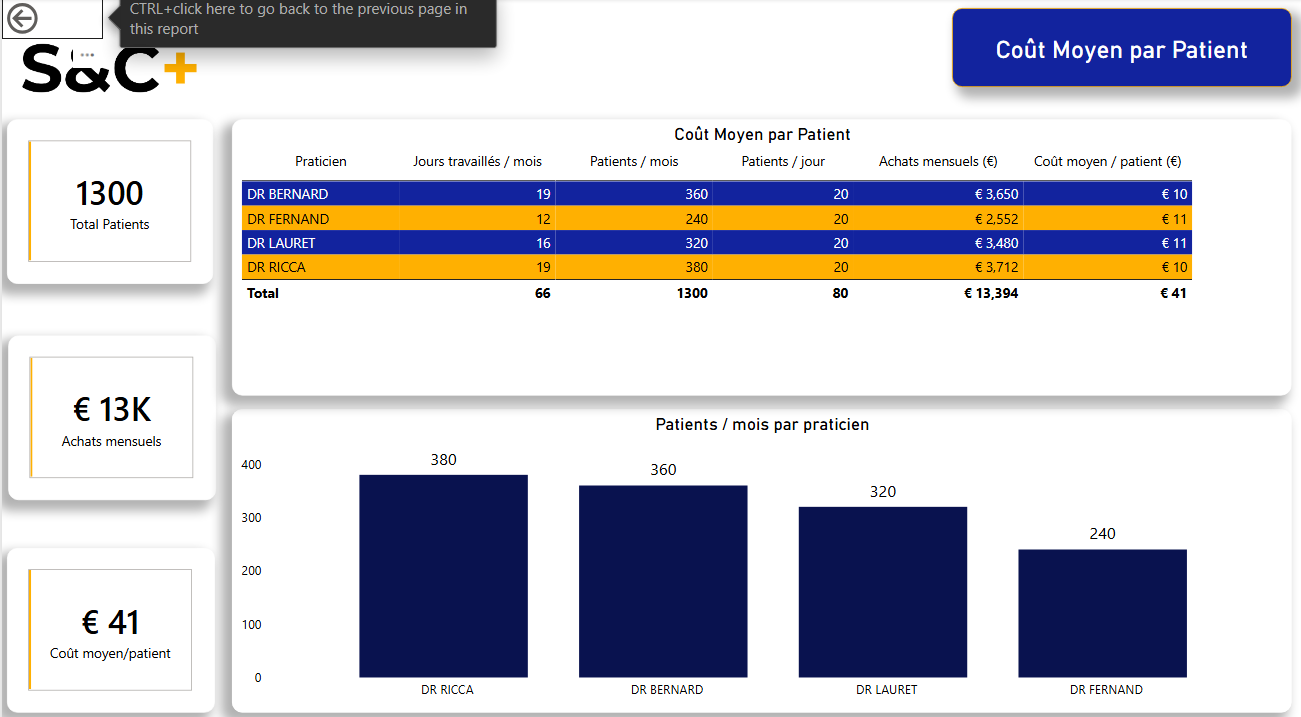

This screenshot's page, from the dashboard's own definition file:
{"tool":"powerbi","page":{"name":"Coût Moyen par Patient","canvas":[1280,720],"ordinal":2},"visuals":[{"type":"cardVisual","fields":{"Data":["Sum(Cout Moyen.Patients / mois)"]},"box":[5,118.8,202.5,161.2],"z":0},{"type":"cardVisual","fields":{"Data":["Sum(Cout Moyen.Achats mensuels (€))"]},"box":[6.2,331.2,203.8,161.2],"z":1000},{"type":"image","box":[0,20,212.5,98.8],"z":3000},{"type":"columnChart","title":"Patients / mois par praticien","fields":{"Category":["Cout Moyen.Praticien"],"Y":["Sum(Cout Moyen.Patients / mois)"]},"box":[226.2,403.8,1040,297.5],"z":4000},{"type":"cardVisual","fields":{"Data":["Sum(Cout Moyen.Coût moyen / patient (€))"]},"box":[5,540,203.8,161.2],"z":6000},{"type":"tableEx","title":"Coût Moyen par Patient","fields":{"Values":["Cout Moyen.Praticien","Sum(Cout Moyen.Jours travaillés / mois)","Sum(Cout Moyen.Patients / mois)","Sum(Cout Moyen.Patients / jour)","Sum(Cout Moyen.Achats mensuels (€))","Sum(Cout Moyen.Coût moyen / patient (€))"]},"box":[226.2,118.8,1040,271.2],"z":7000},{"type":"actionButton","box":[0,0,100,40],"z":10001},{"type":"textbox","box":[932.5,10,333.8,77.5],"z":10002}]}

Visuals, with their boxes on the page's 1280x720 design canvas (x1, y1, x2, y2). These are canvas units, not pixel positions in the 1301x717 screenshot, which may show the page scaled, cropped or inside an application window:
cardVisual - Sum(Cout Moyen.Patients / mois): box(5, 119, 208, 280)
cardVisual - Sum(Cout Moyen.Achats mensuels (€)): box(6, 331, 210, 492)
image: box(0, 20, 212, 119)
"Patients / mois par praticien" columnChart: box(226, 404, 1266, 701)
cardVisual - Sum(Cout Moyen.Coût moyen / patient (€)): box(5, 540, 209, 701)
"Coût Moyen par Patient" tableEx: box(226, 119, 1266, 390)
actionButton: box(0, 0, 100, 40)
textbox: box(932, 10, 1266, 88)
